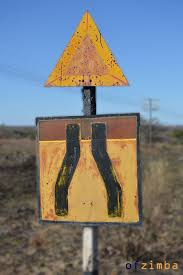Narrow_road: (34, 115, 141, 224)
